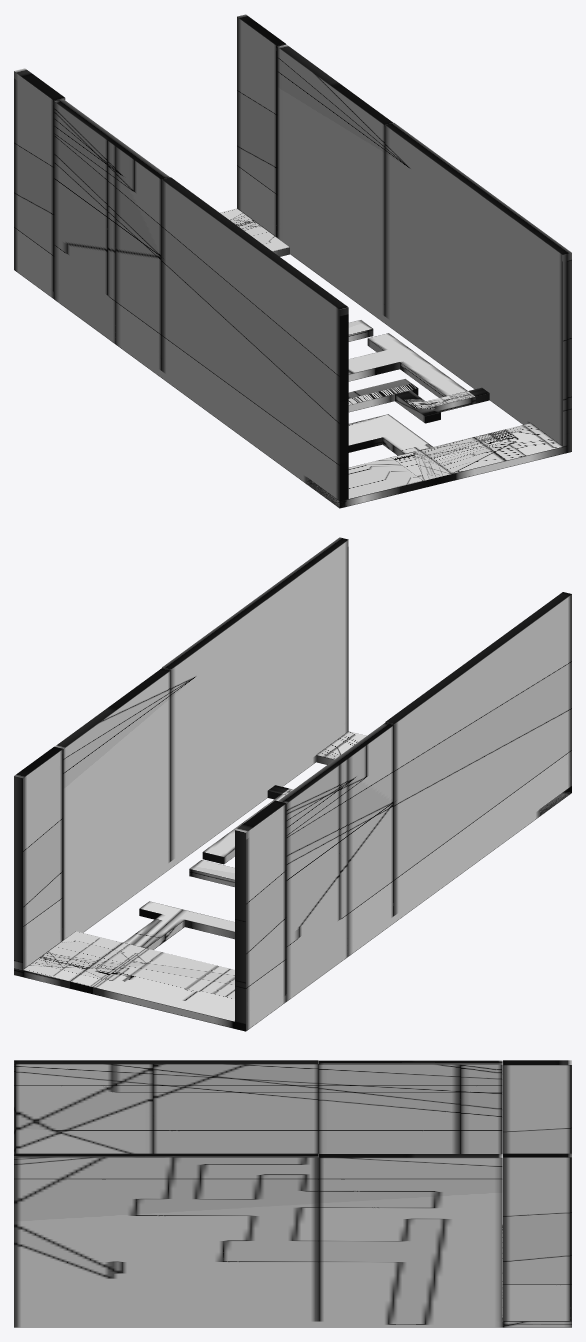
Rendered from mazeFinal.obj.
3 views of the same model, one above another, from view 1: azimuth 30°, elevation 25°; view 2: azimuth 150°, elevation 25°; view 3: azimuth 270°, elevation 25° (orthographic). The views are drawn at different scales.
Visible parts, largest first — view 1: Cube; view 2: Cube; view 3: Cube.
Boxes of the visible parts, x1,y1,x2,y2 form: Cube: (14,14,571,508); Cube: (14,537,571,1031); Cube: (14,1060,571,1327).
Size of the model in its own units: 8.29 by 6.79 by 20.14.
